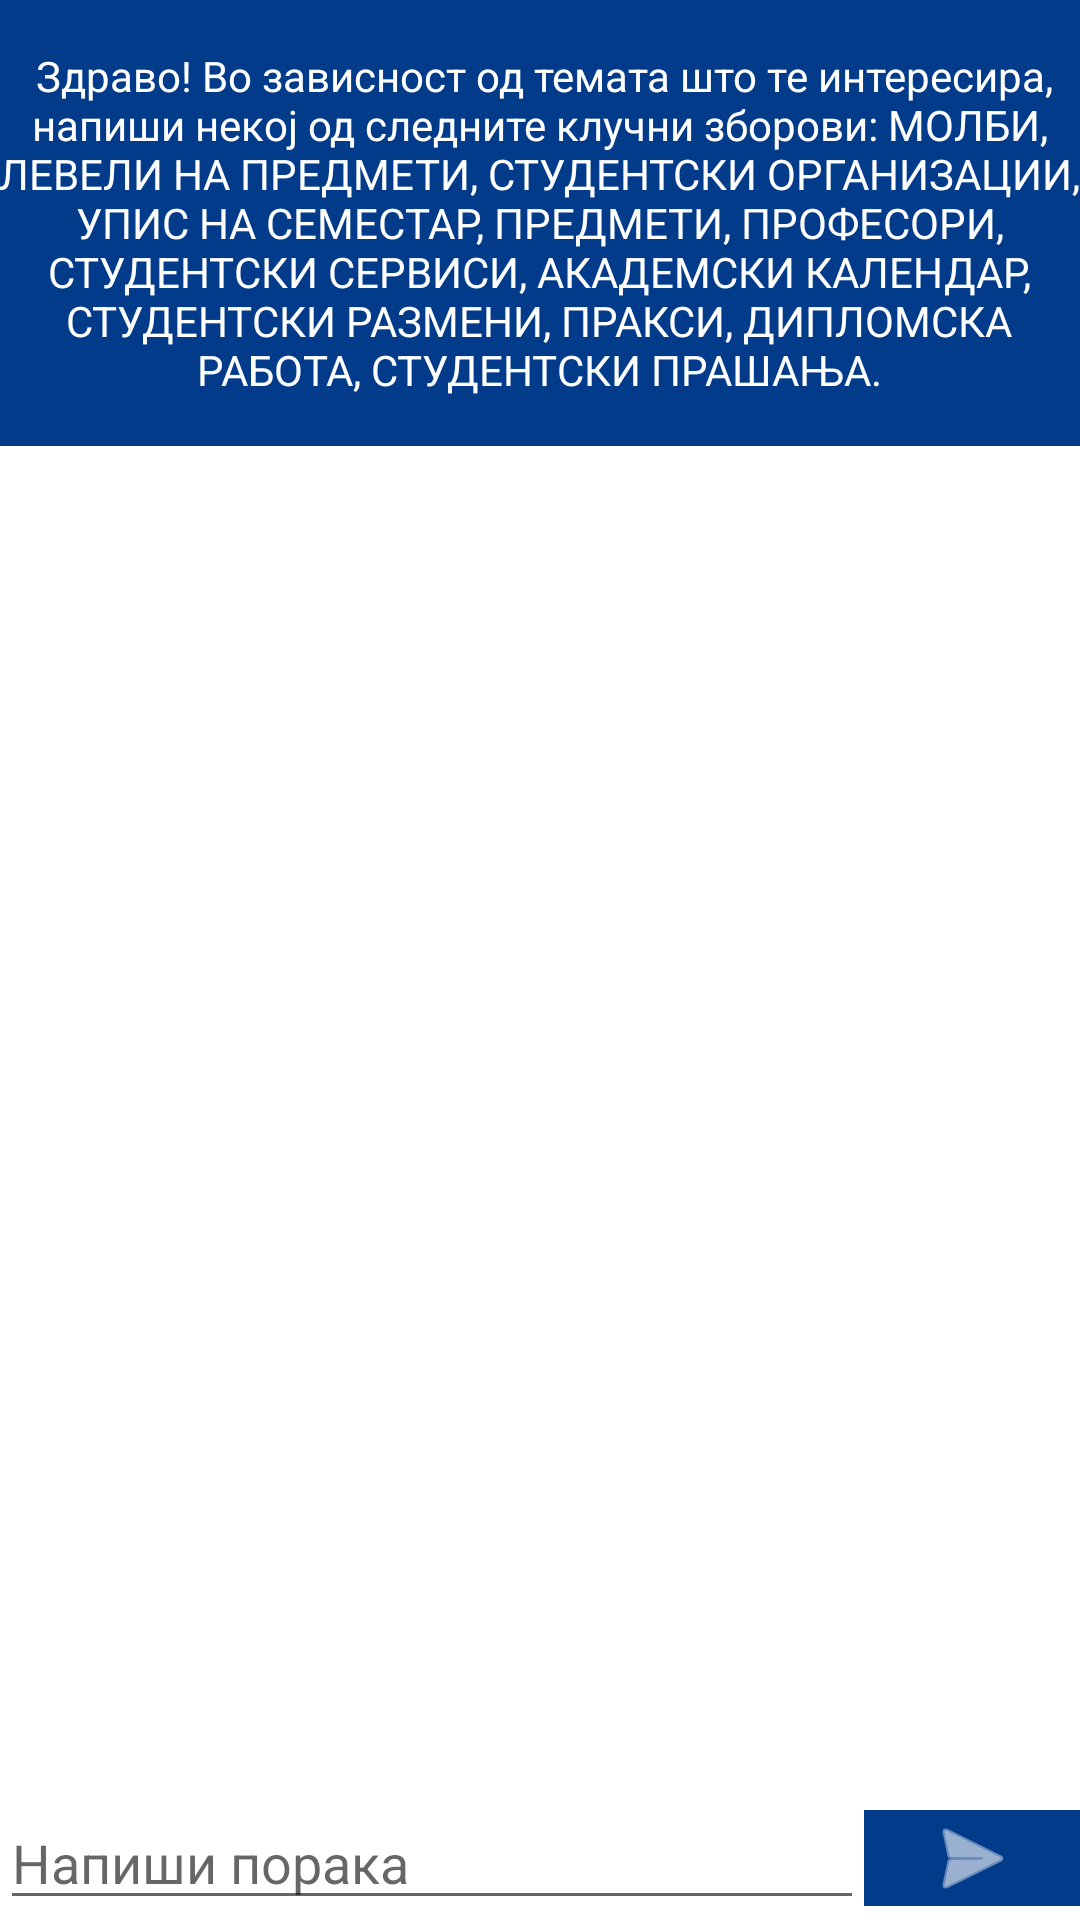

Icons on this 1080w x 1920h Android screen, each with the point to tap as point (x, y):
send: point (972, 1858)
